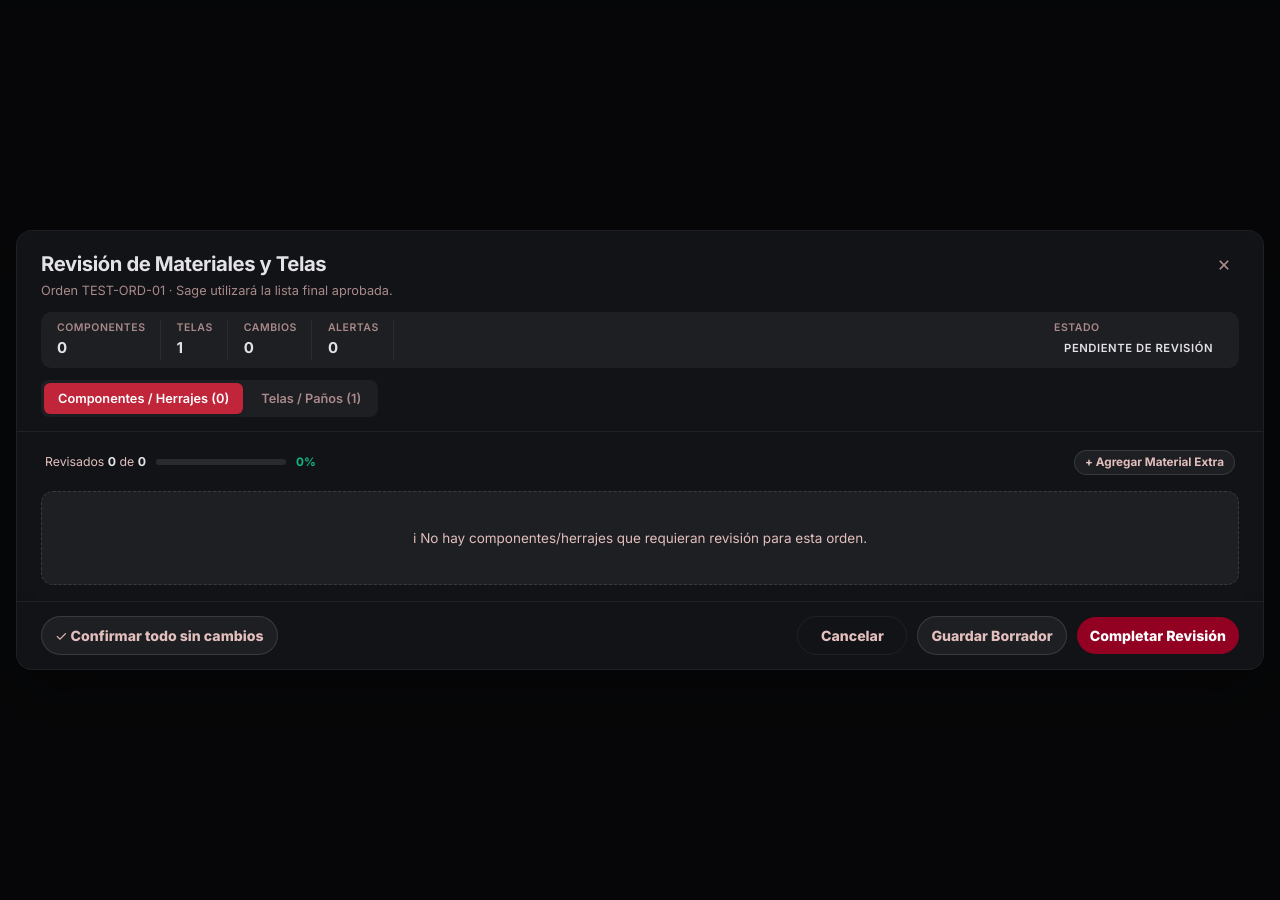
Test: MaterialReviewModal — Safe Empty State & Integrity Protection › 3. Category Empty States (order.items > 0 but category empty) › displays distinct info message when category has 0 items but order is valid
Expected: the text "No hay componentes/herrajes que requieran revisión para esta orden" is shown, 413,530 -> 867,546
Switch to fabrics tab
Click the button "Telas / Paños (1)": (311, 399) 247,383 -> 375,414
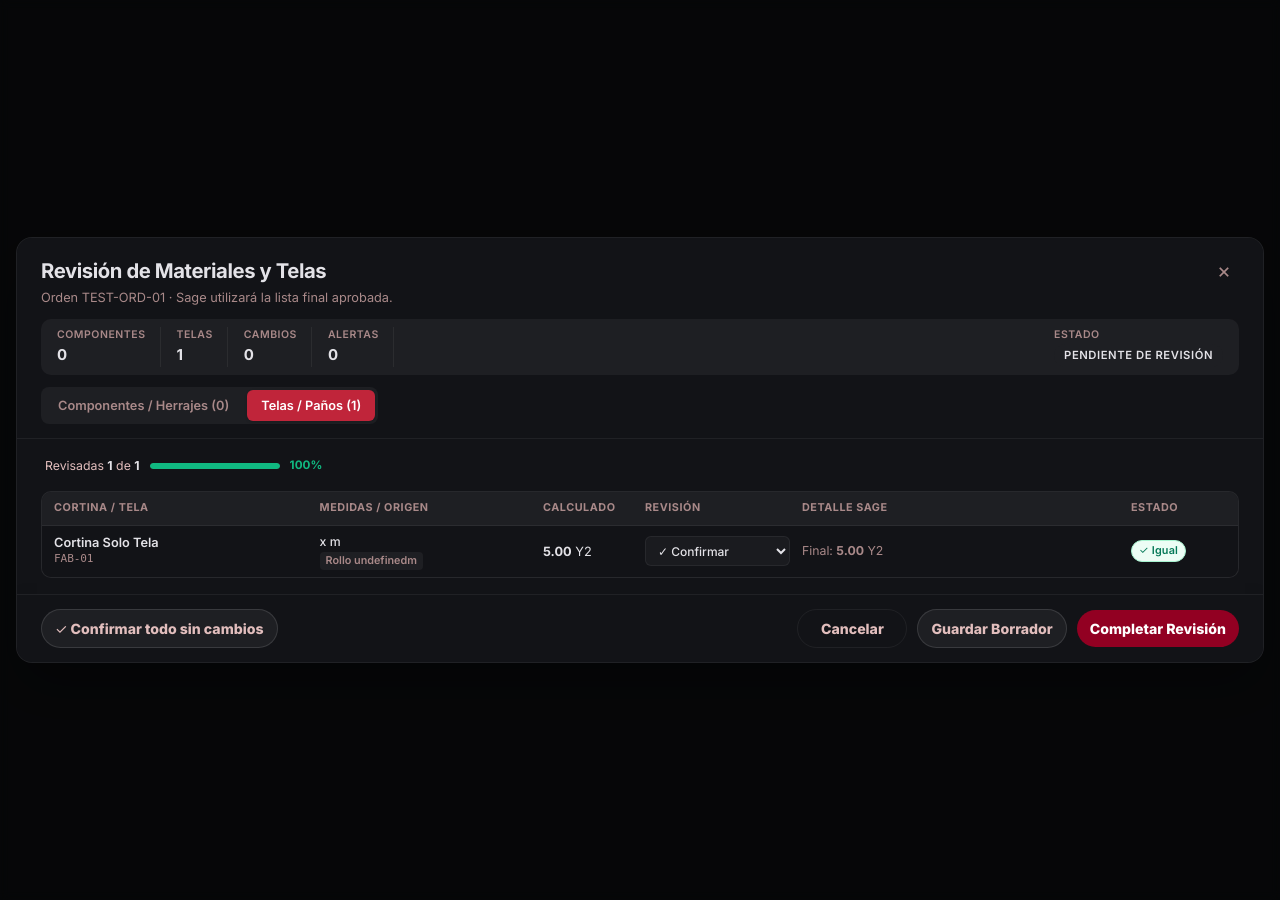
Expected: the text "Cortina Solo Tela" is shown, 54,535 -> 159,550
